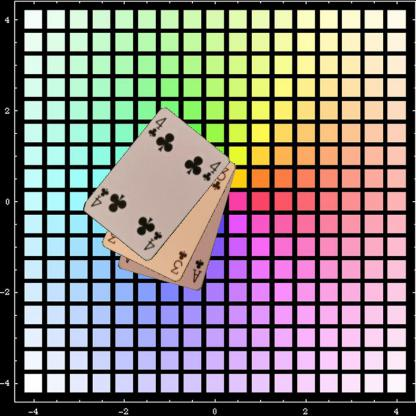3c: (167, 249, 188, 276)
4c: (145, 115, 168, 139), (141, 229, 163, 252)
Ac: (191, 257, 205, 284)
